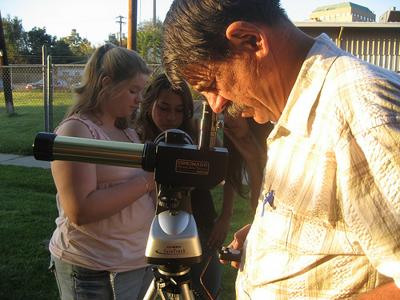person: (162, 2, 400, 300)
